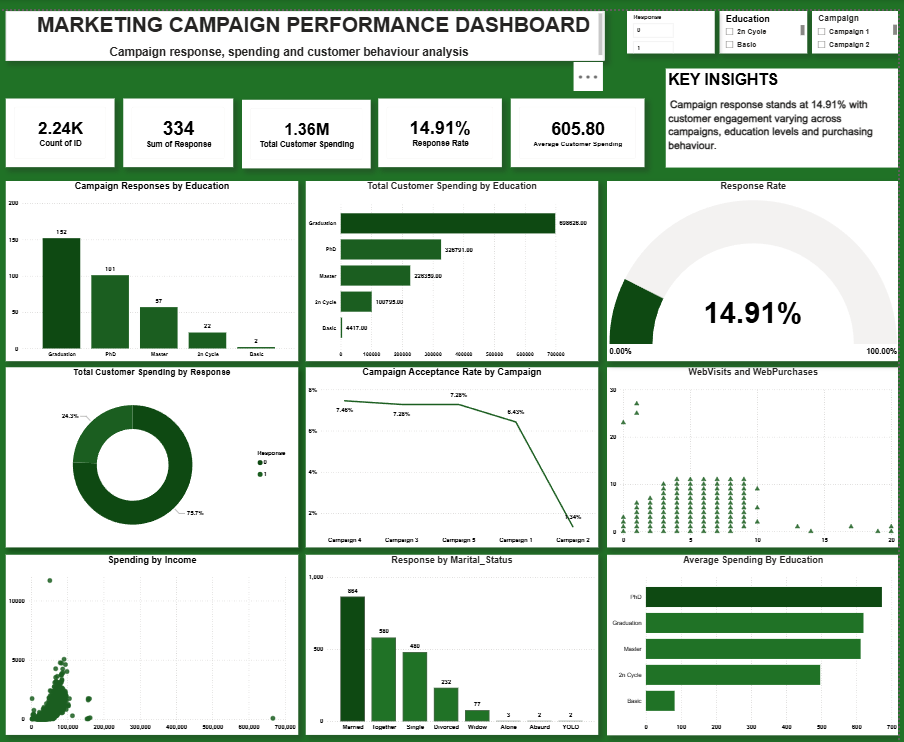

Layout of this report page (visuals, bound fields, positions):
{"tool":"powerbi","page":{"name":"Dashboard","canvas":[1850,1500],"ordinal":0},"visuals":[{"type":"cardVisual","title":"Total Customers","fields":{"Data":["CountNonNull(marketing_campaign.ID)"]},"box":[17.9,179.5,223.1,141],"z":0},{"type":"cardVisual","fields":{"Data":["Sum(marketing_campaign.Response)"]},"box":[259,179.5,225.6,141],"z":1000},{"type":"cardVisual","fields":{"Data":["marketing_campaign.Total Spending"]},"box":[502.6,182.1,264.1,141],"z":2000},{"type":"cardVisual","fields":{"Data":["marketing_campaign.Response Rate"]},"box":[782.1,179.5,253.8,141],"z":3000},{"type":"cardVisual","fields":{"Data":["marketing_campaign.Average Customer Spending"]},"box":[1053.8,179.5,274.4,141],"z":4000},{"type":"clusteredColumnChart","title":"Campaign Responses by Education","fields":{"Category":["marketing_campaign.Education"],"Y":["Sum(marketing_campaign.Response)"]},"box":[17.4,349.3,600,369.6],"z":5000},{"type":"clusteredBarChart","fields":{"Category":["marketing_campaign.Education"],"Y":["marketing_campaign.Total Spending"]},"box":[633.3,349.3,600,369.6],"z":6000},{"type":"donutChart","fields":{"Category":["marketing_campaign.Response"],"Y":["marketing_campaign.Total Spending"]},"box":[17.4,730.4,600,369.6],"z":7000},{"type":"scatterChart","title":"Spending by Income","fields":{"X":["marketing_campaign.Income"],"Y":["marketing_campaign.Total Spending"]},"box":[17.4,1115.9,600,369.6],"z":8000},{"type":"clusteredBarChart","title":" Average Spending By Education","fields":{"Y":["marketing_campaign.Average Customer Spending"],"Category":["marketing_campaign.Education"]},"box":[1250,1115.2,600,370],"z":9000},{"type":"scatterChart","title":"WebVisits and WebPurchases","fields":{"X":["marketing_campaign.NumWebVisitsMonth"],"Y":["marketing_campaign.NumWebPurchases"]},"box":[1250,730.4,600,369.6],"z":10000},{"type":"lineChart","title":"Campaign Acceptance Rate by Campaign","fields":{"Category":["Table.Campaign"],"Y":["marketing_campaign.Campaign Acceptance"]},"box":[632.6,730.4,600,369.6],"z":11000},{"type":"gauge","fields":{"Y":["marketing_campaign.Response Rate"]},"box":[1250.7,349.3,600,369.6],"z":12000},{"type":"slicer","fields":{"Values":["marketing_campaign.Education"]},"box":[1482.6,0,179.7,87],"z":13000},{"type":"textbox","box":[17.4,0,1229,101.4],"z":14000},{"type":"clusteredColumnChart","title":"Response by Marital_Status","fields":{"Category":["marketing_campaign.Marital_Status"],"Y":["CountNonNull(marketing_campaign.Response)"]},"box":[632.6,1115.2,600,369.6],"z":15000},{"type":"slicer","fields":{"Values":["Table.Campaign"]},"box":[1671,0,179.7,87],"z":16000},{"type":"slicer","fields":{"Values":["marketing_campaign.Response"]},"box":[1292.8,0,179.7,87],"z":17000},{"type":"textbox","box":[1371,118.8,479.7,202.9],"z":18000}]}

Visuals, with their boxes in screenshot pixels (x1, y1, x2, y2), scaled from the page's 1850x1500 canvas onto the 904x742 screenshot:
"Total Customers" cardVisual: l=9, t=89, r=118, b=159
cardVisual - Sum(marketing_campaign.Response): l=127, t=89, r=237, b=159
cardVisual - marketing_campaign.Total Spending: l=246, t=90, r=375, b=160
cardVisual - marketing_campaign.Response Rate: l=382, t=89, r=506, b=159
cardVisual - marketing_campaign.Average Customer Spending: l=515, t=89, r=649, b=159
"Campaign Responses by Education" clusteredColumnChart: l=9, t=173, r=302, b=356
clusteredBarChart - marketing_campaign.Education x marketing_campaign.Total Spending: l=309, t=173, r=603, b=356
donutChart - marketing_campaign.Response x marketing_campaign.Total Spending: l=9, t=361, r=302, b=544
"Spending by Income" scatterChart: l=9, t=552, r=302, b=735
" Average Spending By Education" clusteredBarChart: l=611, t=552, r=903, b=735
"WebVisits and WebPurchases" scatterChart: l=611, t=361, r=903, b=544
"Campaign Acceptance Rate by Campaign" lineChart: l=309, t=361, r=602, b=544
gauge - marketing_campaign.Response Rate: l=611, t=173, r=903, b=356
slicer - marketing_campaign.Education: l=724, t=0, r=812, b=43
textbox: l=9, t=0, r=609, b=50
"Response by Marital_Status" clusteredColumnChart: l=309, t=552, r=602, b=734
slicer - Table.Campaign: l=817, t=0, r=903, b=43
slicer - marketing_campaign.Response: l=632, t=0, r=720, b=43
textbox: l=670, t=59, r=903, b=159
